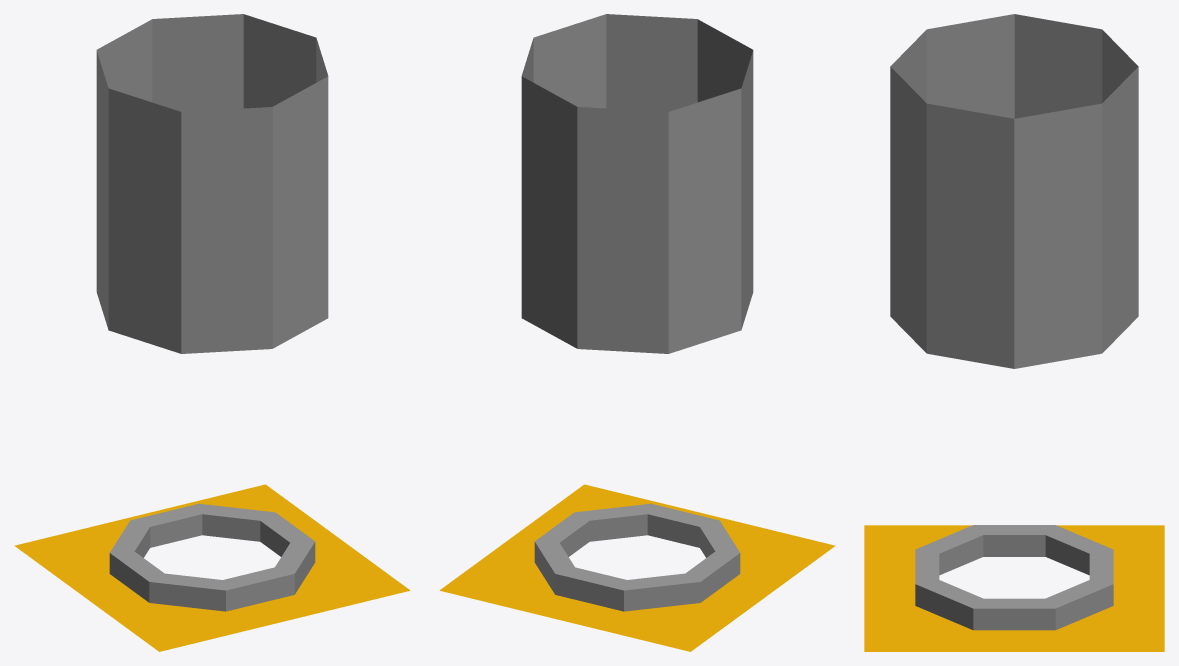
File: mpe_linear_actuator.dae
3 views of the same model, side by side, from view 1: azimuth 30°, elevation 25°; view 2: azimuth 150°, elevation 25°; view 3: azimuth 270°, elevation 25° (orthographic). The views are drawn at different scales.
Visible parts, largest first — view 1: linear_actuator; view 2: linear_actuator; view 3: linear_actuator.
Boxes of the visible parts, x1,y1,x2,y2 form: linear_actuator: (14, 14, 410, 651); linear_actuator: (439, 14, 835, 651); linear_actuator: (864, 14, 1164, 651).
Bounding box in the file's own units: 0.25 × 0.25 × 0.48.
